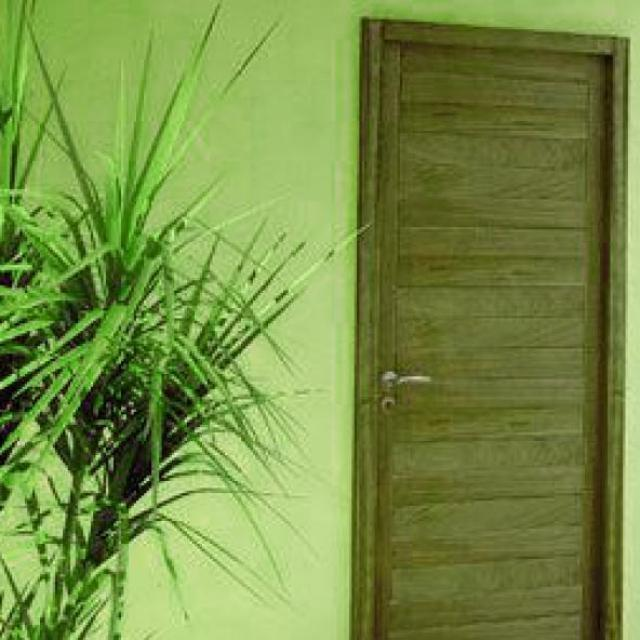door: (352, 16, 622, 639)
